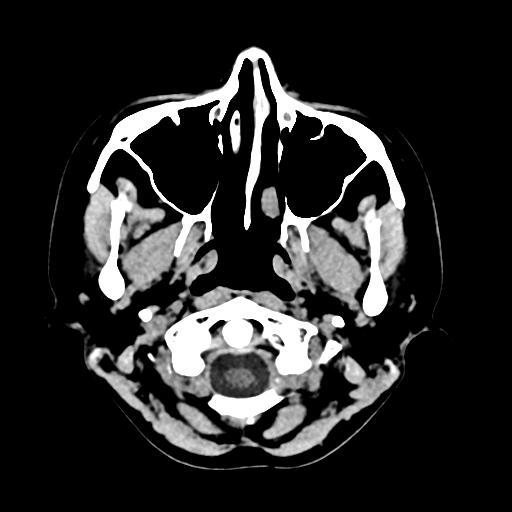Normal_Brain: (55, 36, 470, 484)
